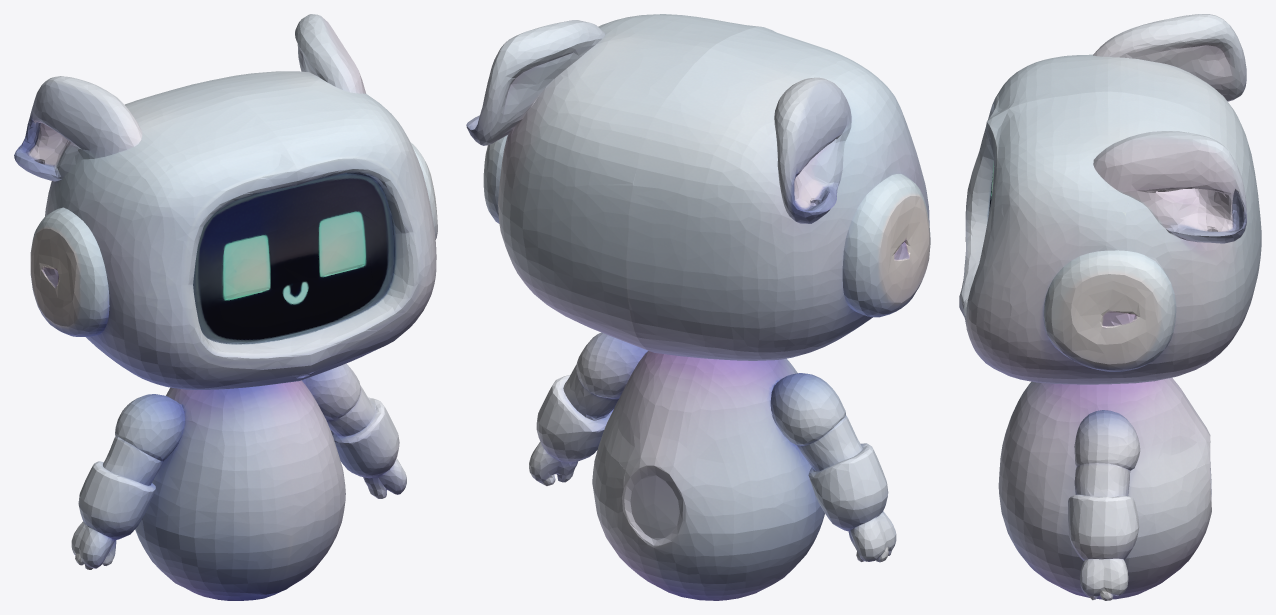
Rendered from bestibotcute.glb.
3 views of the same model, side by side, from view 1: azimuth 30°, elevation 25°; view 2: azimuth 150°, elevation 25°; view 3: azimuth 270°, elevation 25° (orthographic). The views are drawn at different scales.
Parts seen in each view (by area): view 1: world; view 2: world; view 3: world.
Part boxes in pixels (left/top/right/bottom): world: left=14, top=14, right=437, bottom=600; world: left=466, top=14, right=930, bottom=600; world: left=959, top=14, right=1261, bottom=600.
Size of the model in its own units: 0.7617 by 1 by 0.5378.
1 material, 1 textured.
